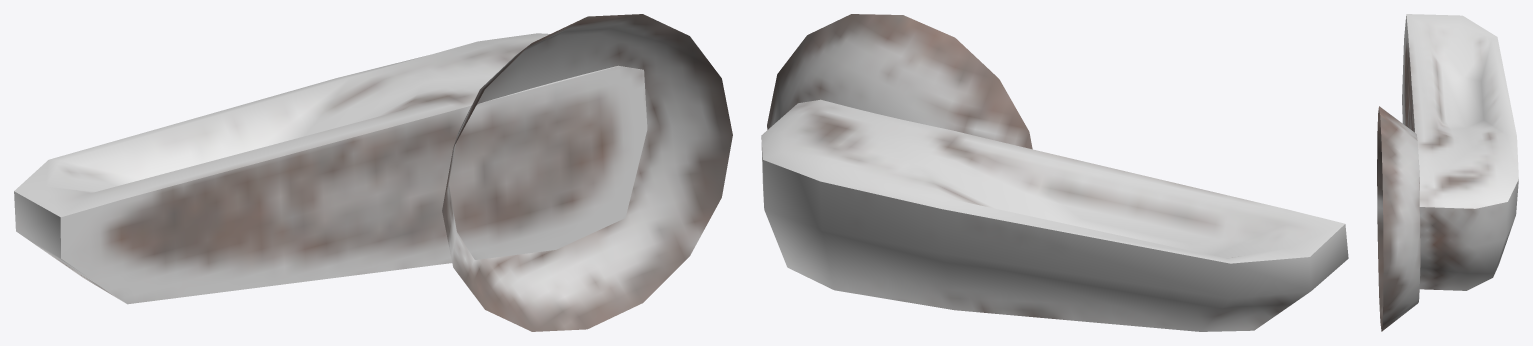
Rendered from SM_Toilet_A1_Handle.fbx.
3 renders of one model, left to right at view 1: azimuth 30°, elevation 25°; view 2: azimuth 150°, elevation 25°; view 3: azimuth 270°, elevation 25°, orthographic. The views are drawn at different scales.
Parts seen in each view (by area): view 1: SM_Toilet_A1_Handle; view 2: SM_Toilet_A1_Handle; view 3: SM_Toilet_A1_Handle.
Boxes of the visible parts, x1,y1,x2,y2 form: SM_Toilet_A1_Handle: (14, 14, 732, 331); SM_Toilet_A1_Handle: (761, 14, 1348, 331); SM_Toilet_A1_Handle: (1377, 14, 1518, 331).
Bounding box in the file's own units: 9.54 × 2.71 × 4.33.
1 material, 1 textured.
